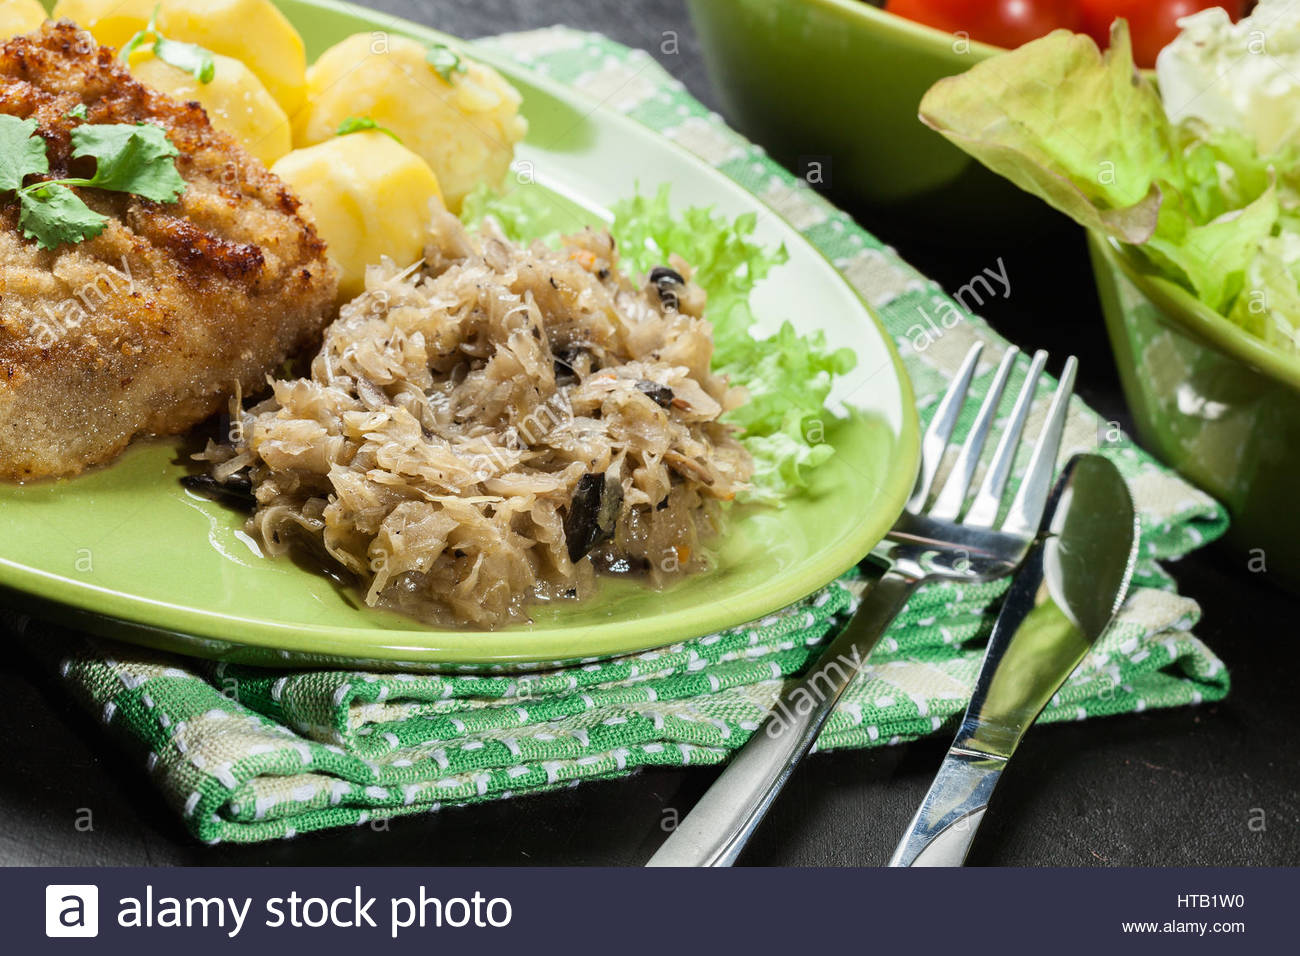boiled potatoes: (220, 41, 430, 221)
chopped lettuce: (1083, 61, 1280, 281)
